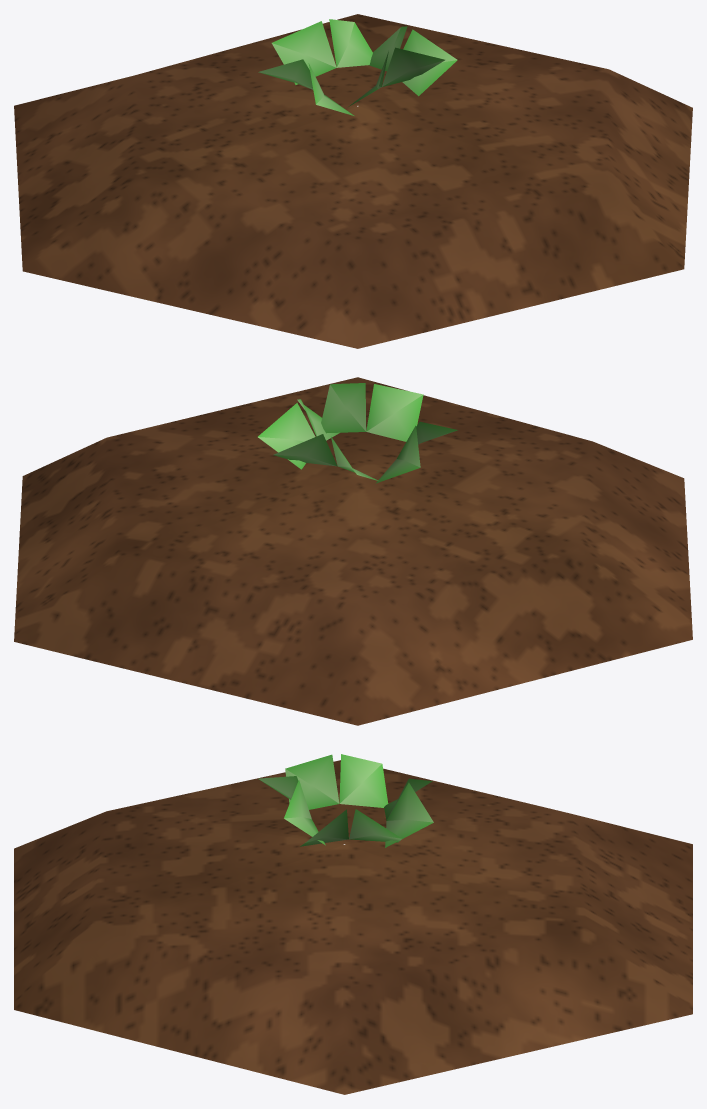
Rendered from plant-carrot-2-far.glb.
3 renders of one model, top to bottom at view 1: azimuth 30°, elevation 25°; view 2: azimuth 150°, elevation 25°; view 3: azimuth 270°, elevation 25°, orthographic.
Parts seen in each view (by area): view 1: plant-carrot-2-far; view 2: plant-carrot-2-far; view 3: plant-carrot-2-far.
Boxes of the visible parts, <box> form: plant-carrot-2-far: <box>14,14,692,348</box>; plant-carrot-2-far: <box>14,377,692,725</box>; plant-carrot-2-far: <box>14,754,692,1094</box>.
Size of the model in its own units: 0.84 by 0.1856 by 0.7275.
2 materials, 1 textured.
